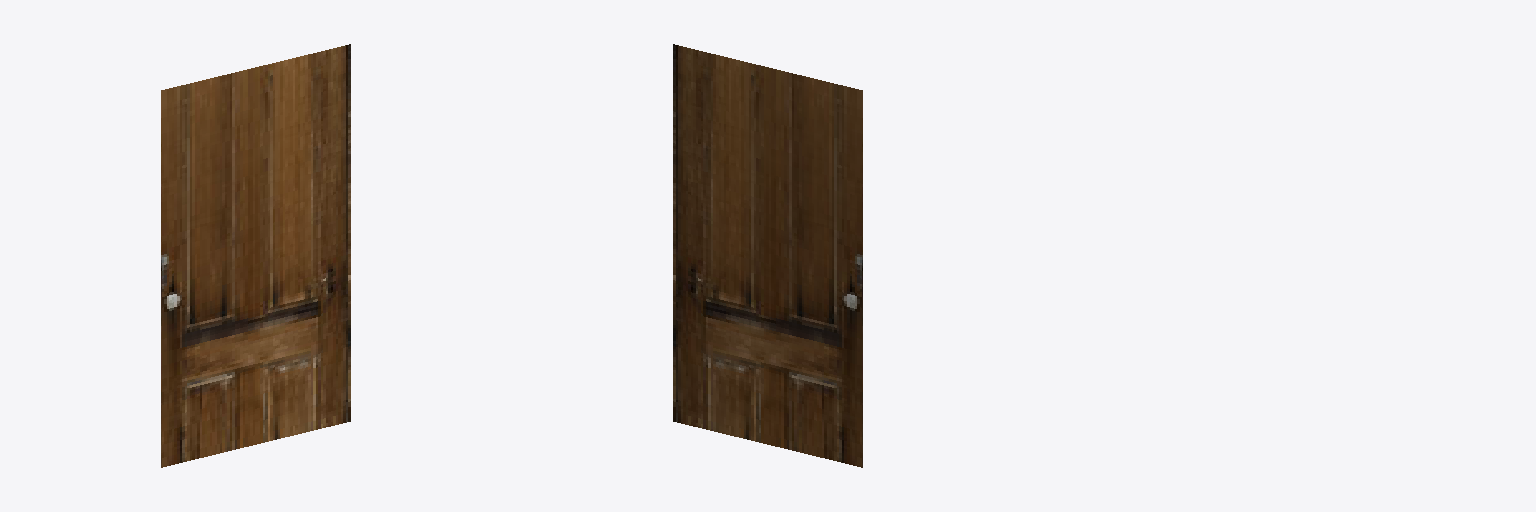
3 views of the same model, side by side, from view 1: azimuth 30°, elevation 25°; view 2: azimuth 150°, elevation 25°; view 3: azimuth 270°, elevation 25° (orthographic).
Visible parts, largest first — view 1: Mesh1 Model; view 2: Mesh1 Model; view 3: none.
Boxes of the visible parts, <box> form: Mesh1 Model: <box>161,44,350,467</box>; Mesh1 Model: <box>673,44,862,467</box>.
Bounding box in the file's own units: 65.05 × 123 × 0.
1 materials, 1 textured.